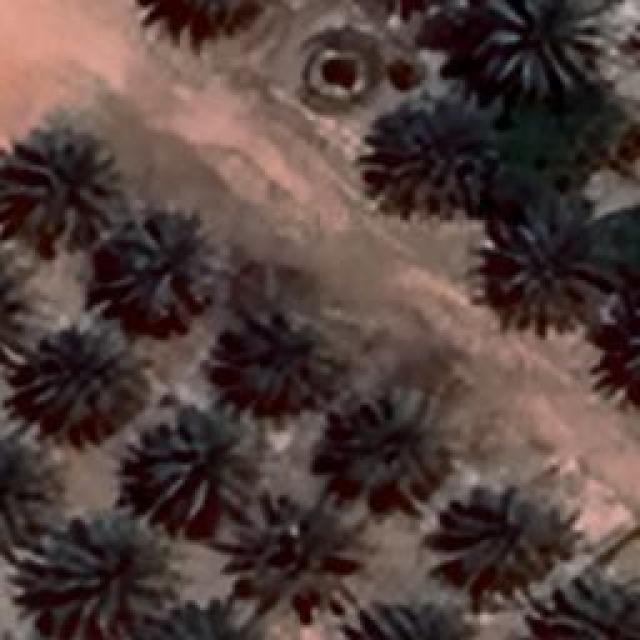PalmTree: (27, 69, 127, 491), (35, 507, 180, 635), (362, 87, 500, 215), (15, 320, 143, 440), (498, 192, 612, 326), (140, 400, 265, 518), (0, 130, 125, 245), (340, 382, 458, 502), (105, 210, 220, 322), (425, 485, 550, 585), (215, 300, 335, 402), (480, 0, 598, 95), (246, 499, 339, 599), (544, 568, 638, 638), (347, 600, 480, 640), (137, 609, 268, 640), (0, 250, 29, 374), (618, 278, 640, 404), (140, 619, 268, 640), (350, 0, 450, 26), (624, 280, 640, 404), (628, 288, 640, 402)
